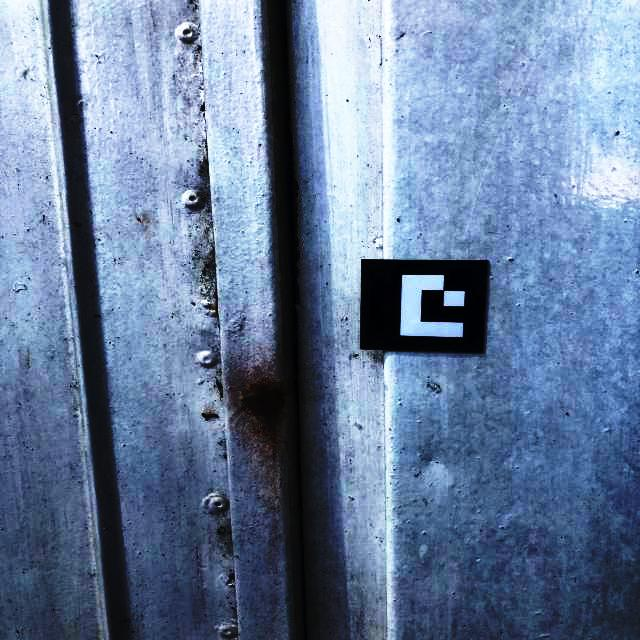Corrosion: (291, 129, 301, 374), (243, 382, 291, 432)
